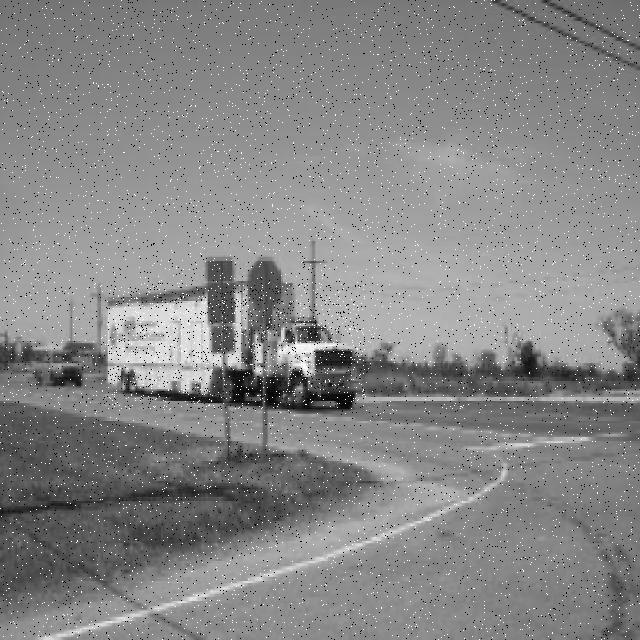Tractor Trailer: (107, 283, 365, 409)
